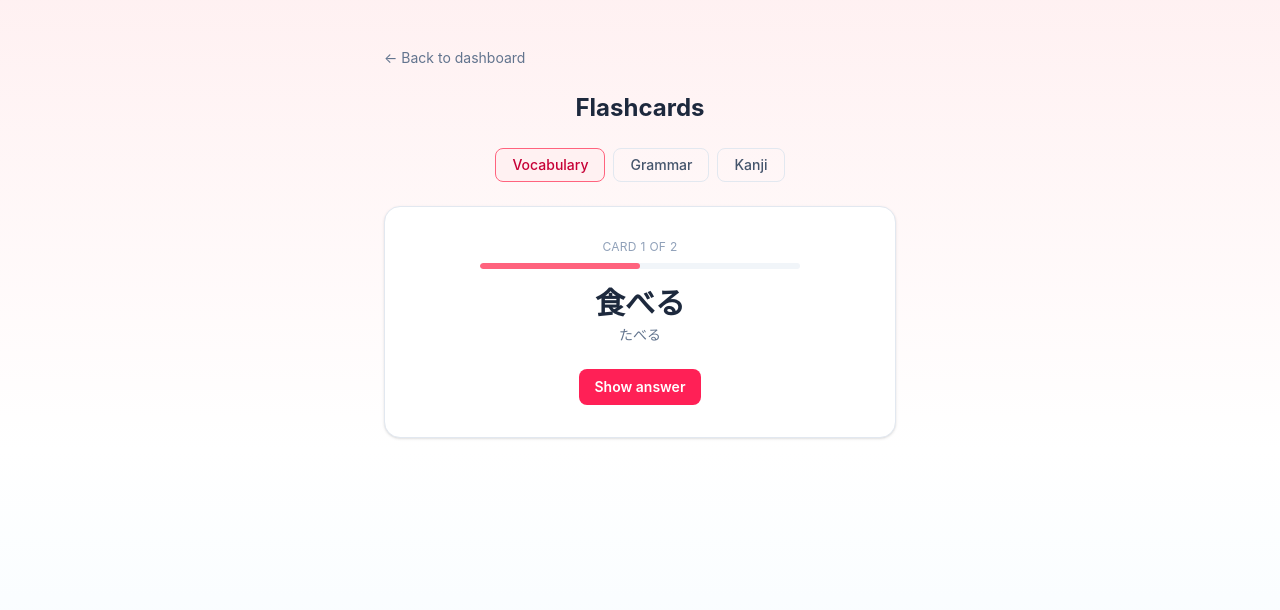
FlashcardsPage › walks through the deck and reports XP earned on completion
Expected: the text "食べる" is shown, 595,285 -> 685,321
Click the button "Show answer": (640, 387) 578,369 -> 702,405
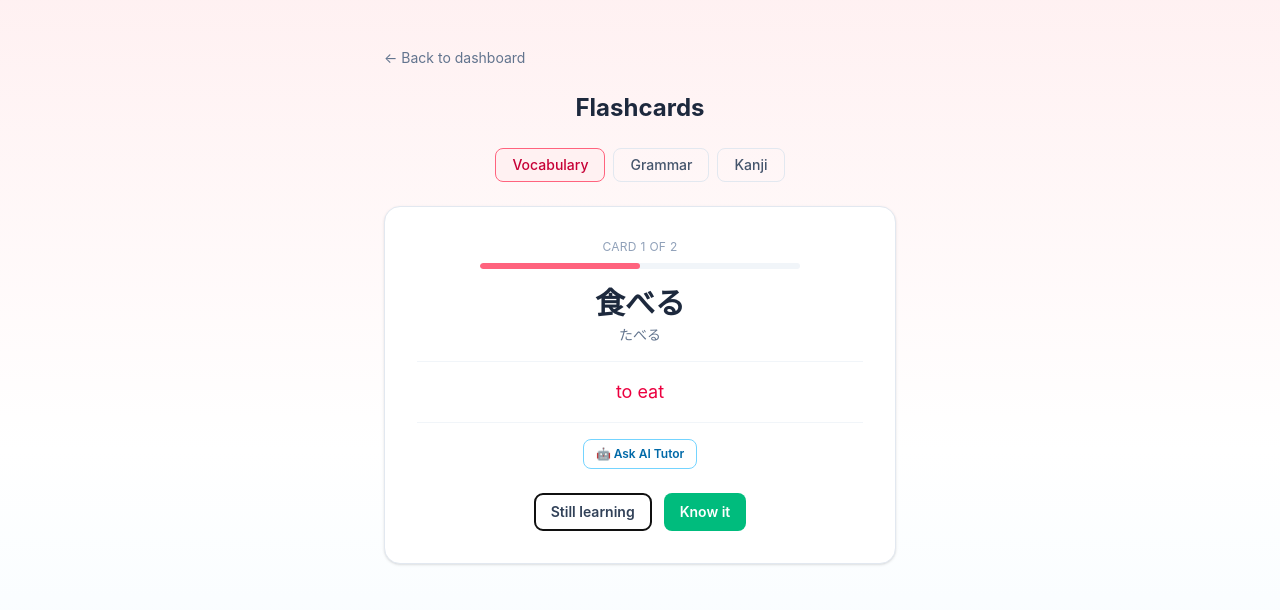
Click the button "Know it": (705, 512) 664,493 -> 746,531
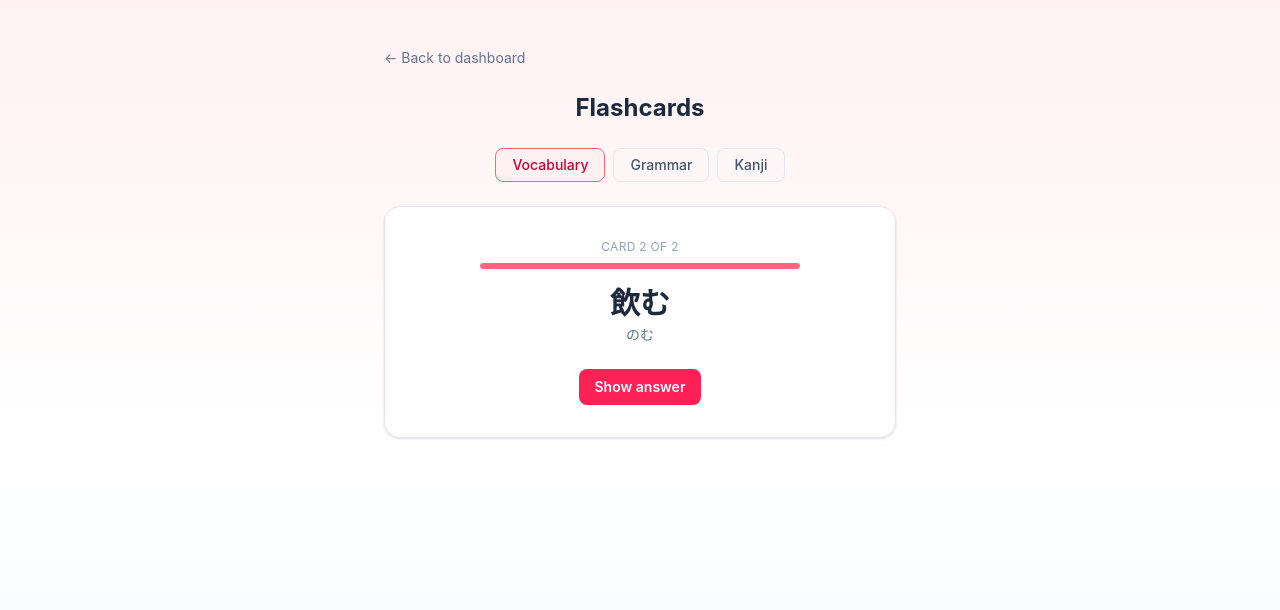
Now the text "飲む" is shown, box 610,285 -> 670,321
Click the button "Show answer": (640, 387) 578,369 -> 702,405
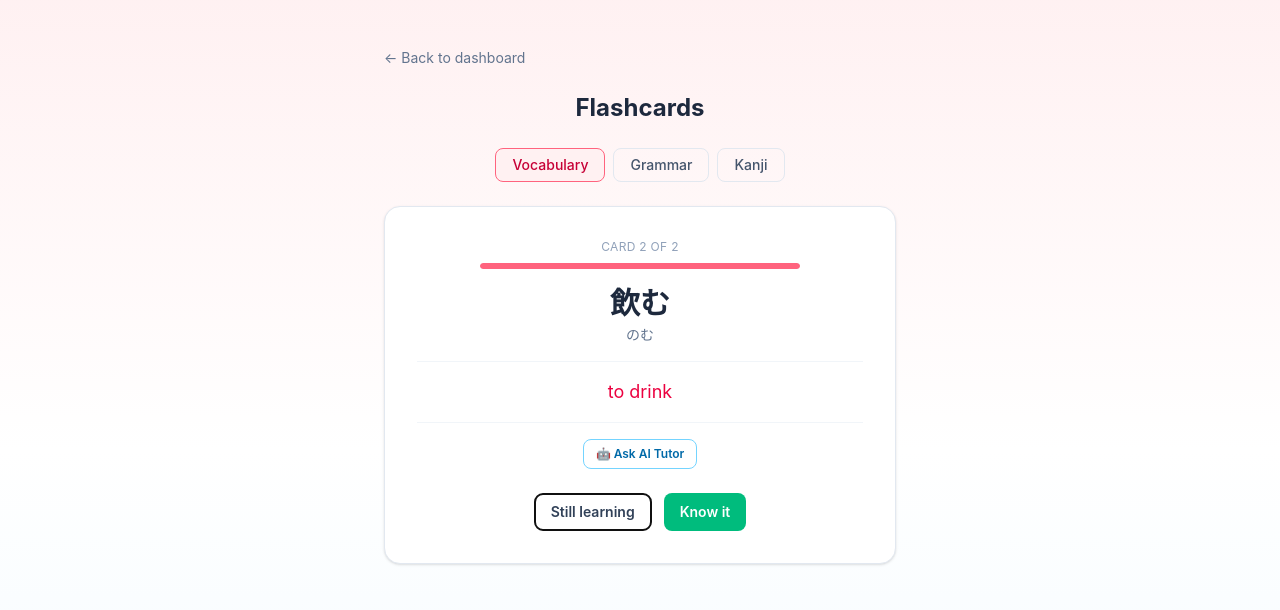
Click the button "Still learning": (593, 512) 534,493 -> 652,531
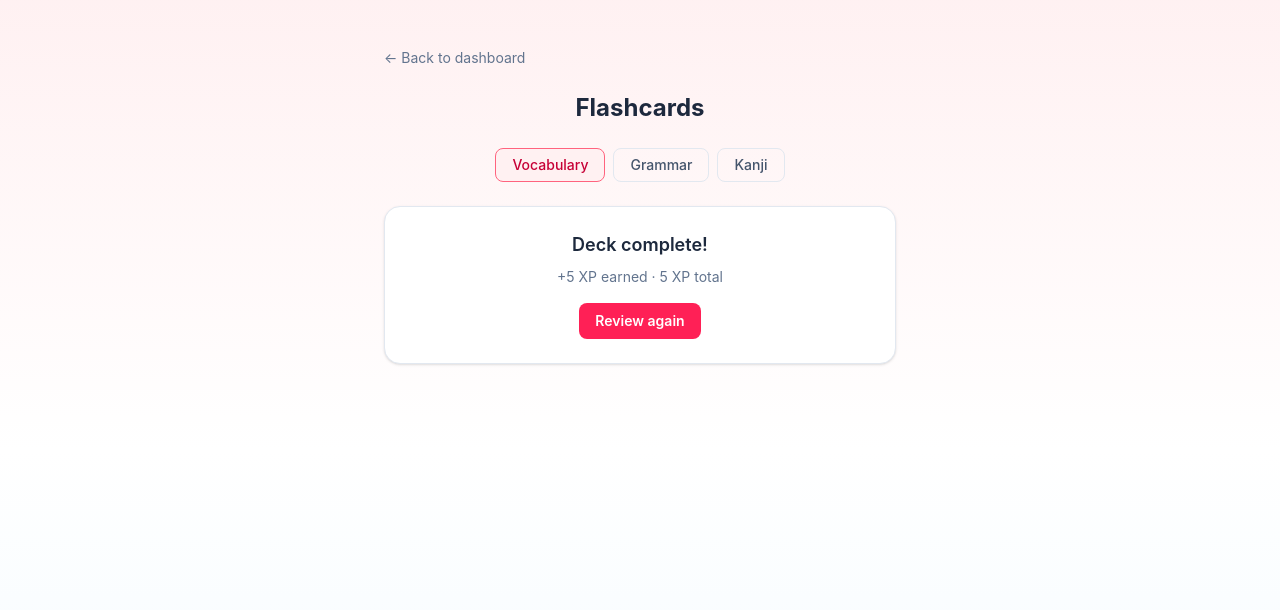
Now the text "Deck complete!" is shown, box 572,234 -> 708,255
Now the text "+5 XP earned · 5 XP total" is shown, box 557,268 -> 723,285
